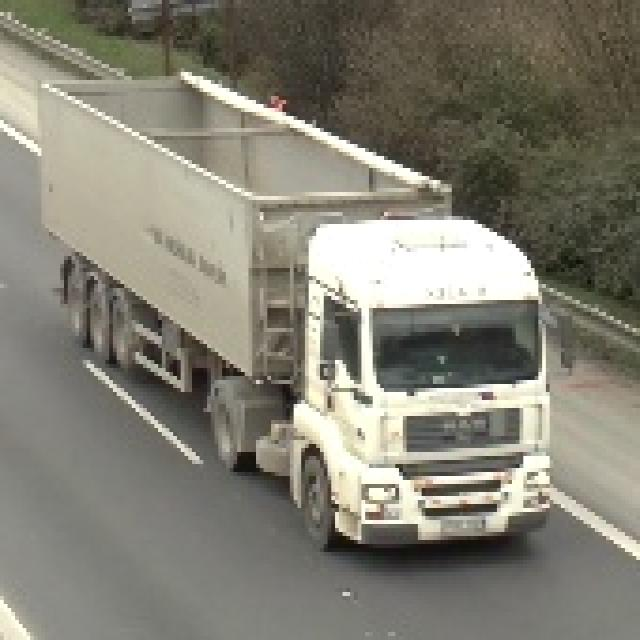TRUCK: (45, 82, 572, 570)
